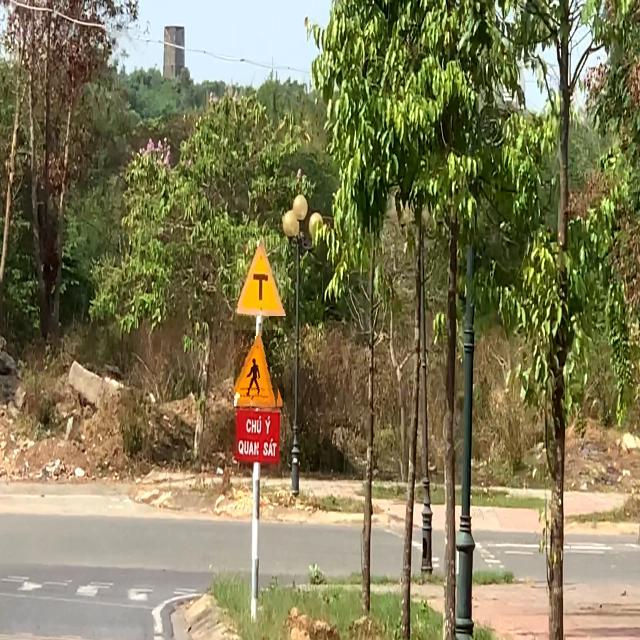W-205b: (235, 238, 286, 316)
W-224: (234, 330, 284, 408)
